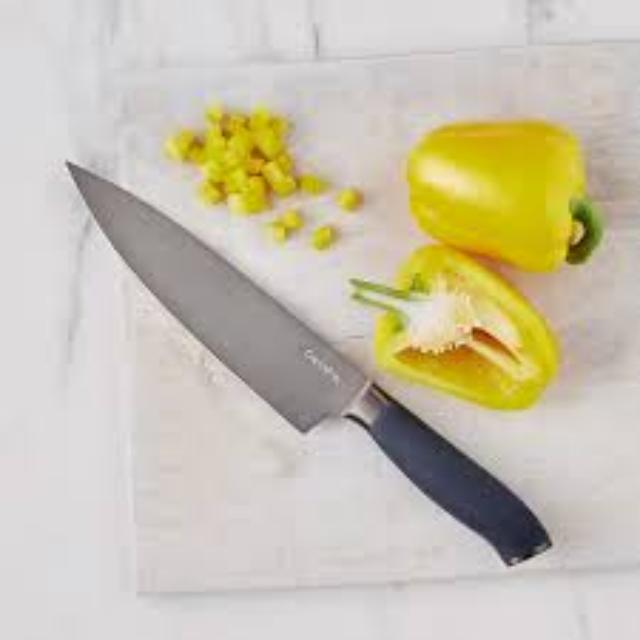Knife: (62, 157, 552, 566)
